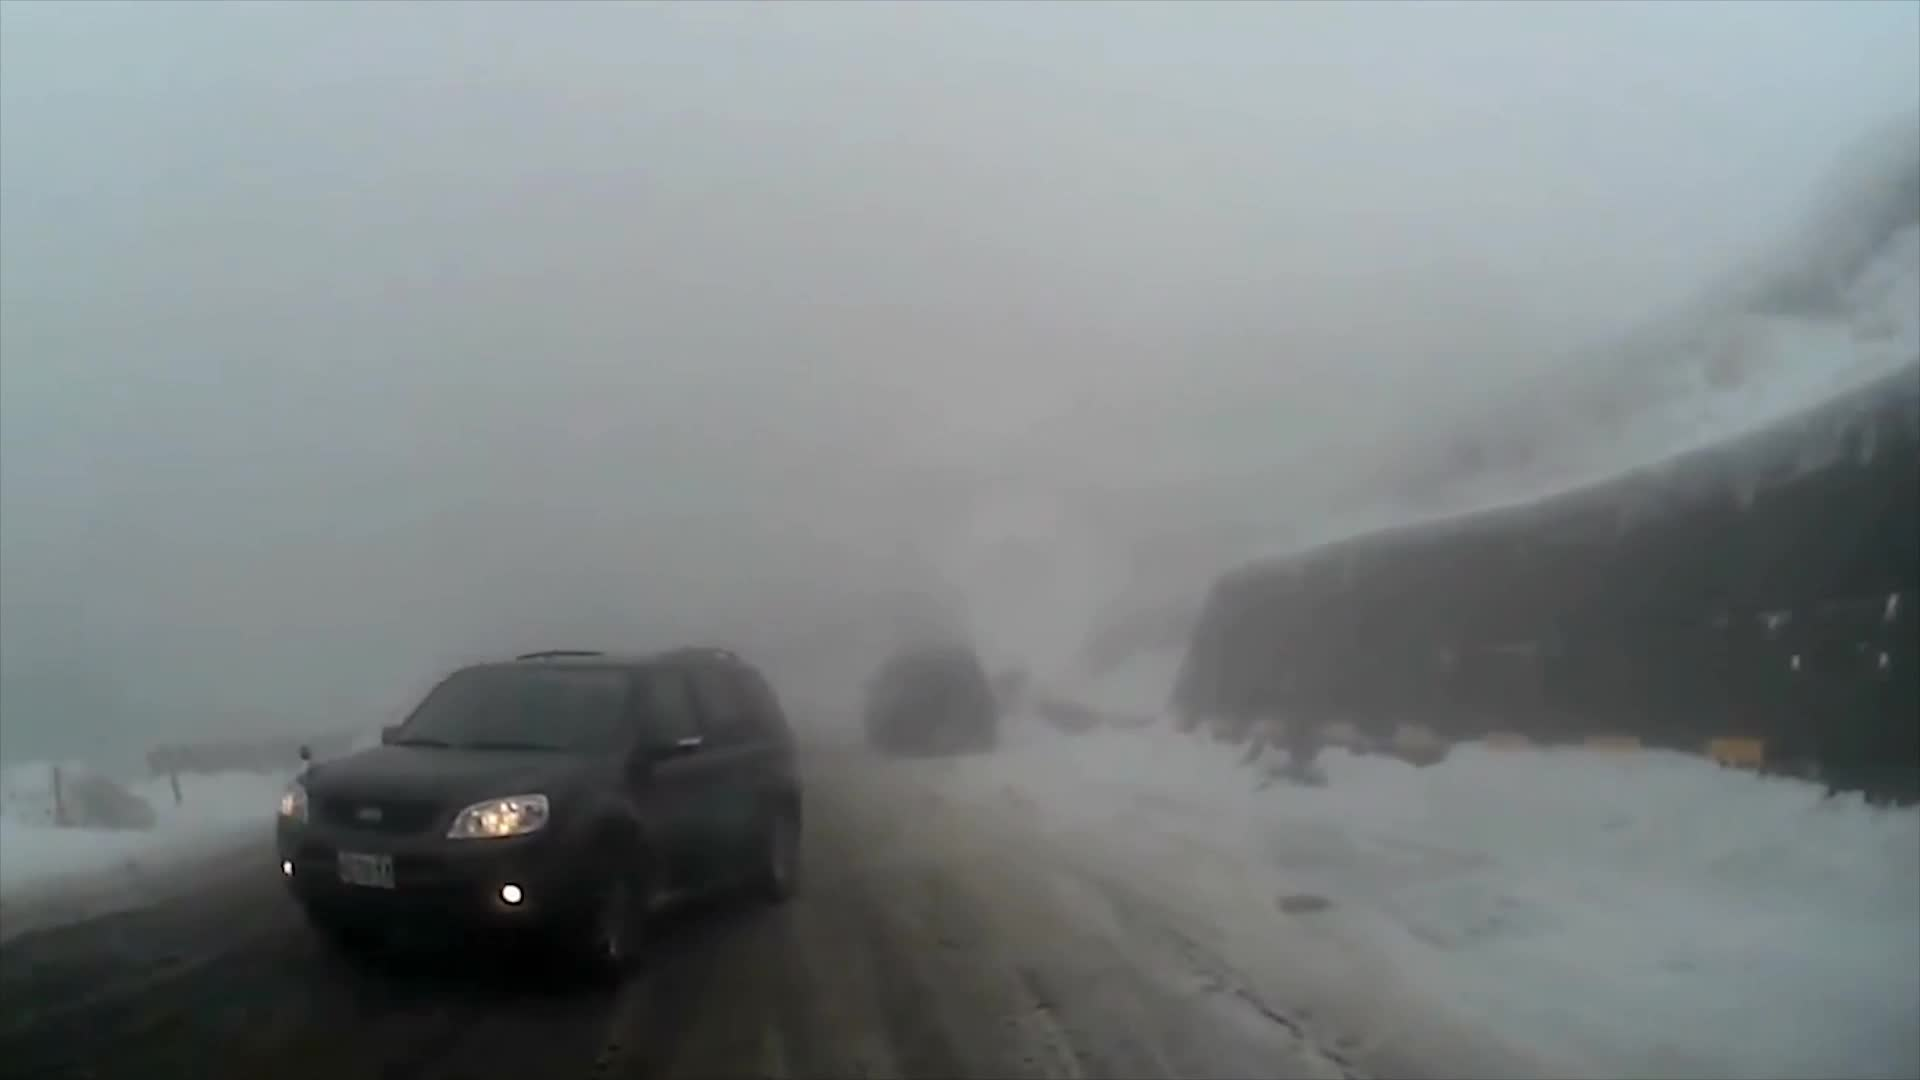vehicle: (272, 644, 807, 976), (858, 645, 996, 761)
